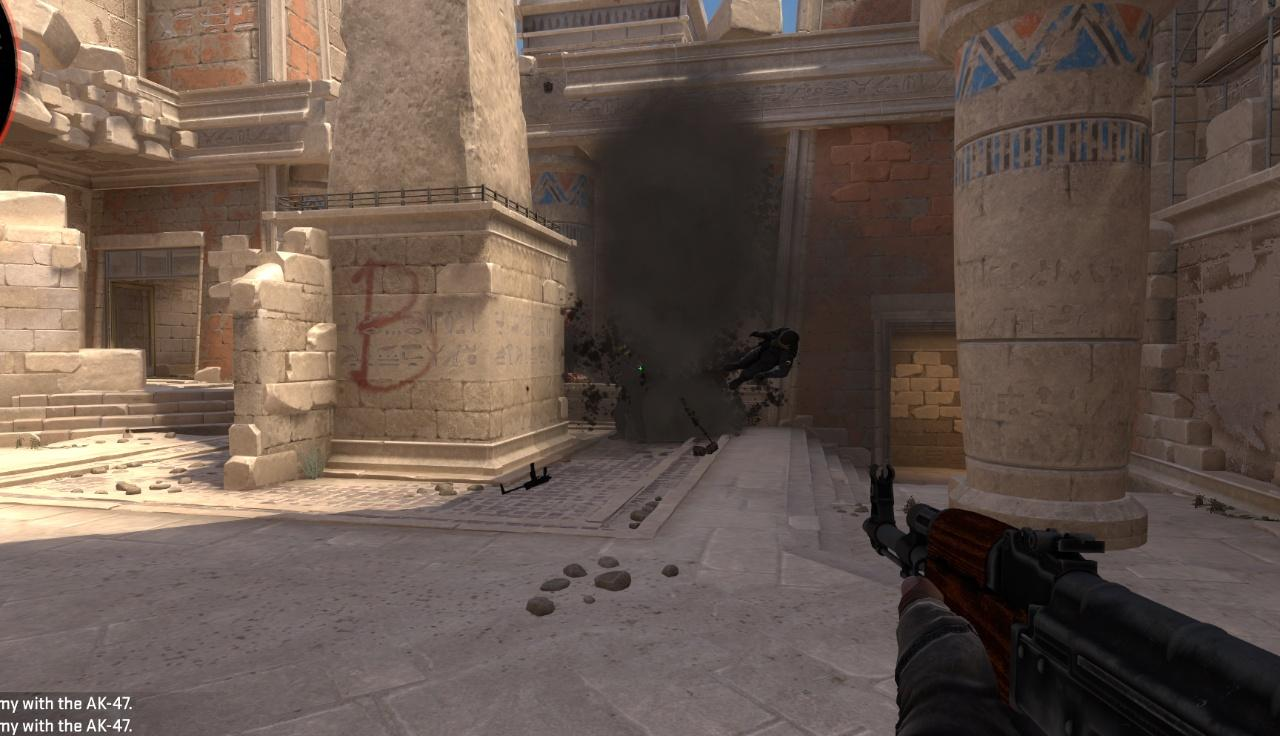ct: (608, 346, 646, 442)
cthead: (617, 347, 631, 362)
rifle: (870, 470, 1280, 736)
